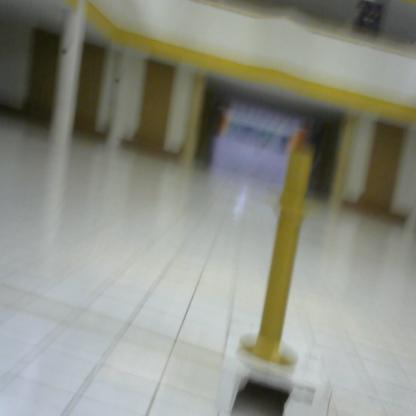pole: (233, 146, 327, 380)
